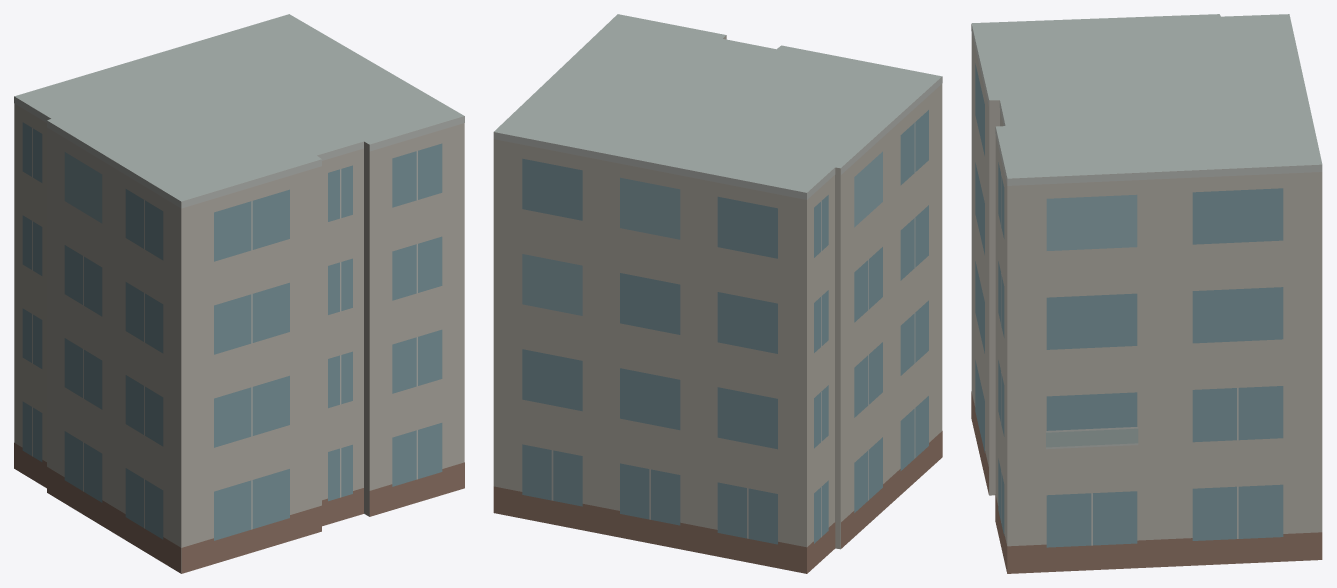
Rendered from survey-upis-32661748.glb.
3 renders of one model, left to right at view 1: azimuth 30°, elevation 25°; view 2: azimuth 150°, elevation 25°; view 3: azimuth 270°, elevation 25°, orthographic. The views are drawn at different scales.
Visible parts, largest first — view 1: survey-upis-32661748.tmp; view 2: survey-upis-32661748.tmp; view 3: survey-upis-32661748.tmp.
Boxes of the visible parts, bbox=[...] form: survey-upis-32661748.tmp: bbox=[14, 14, 464, 573]; survey-upis-32661748.tmp: bbox=[493, 14, 942, 573]; survey-upis-32661748.tmp: bbox=[971, 14, 1322, 573].
Bounding box in the file's own units: 11.71 × 13.1 × 10.56.
